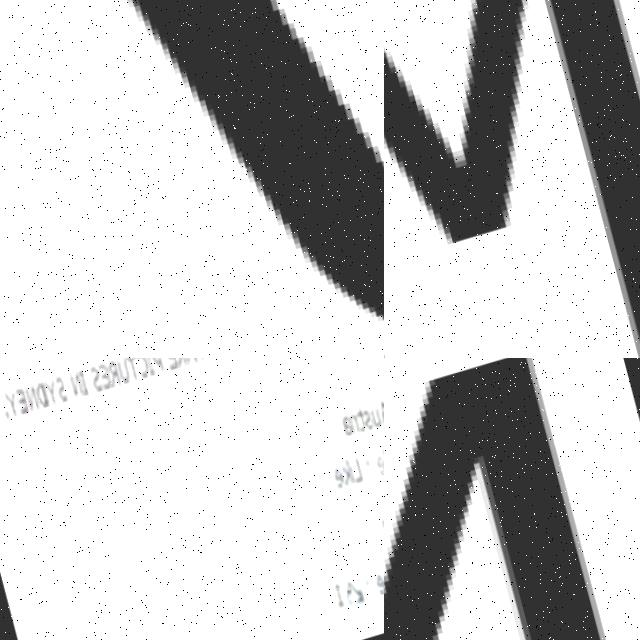1: (332, 584, 347, 611)
A: (339, 416, 353, 440), (376, 399, 384, 428), (180, 358, 197, 366)
C: (132, 358, 150, 378)
D: (33, 380, 49, 408)
E: (14, 385, 30, 415), (96, 360, 112, 389), (331, 468, 345, 491), (373, 574, 384, 599), (373, 456, 384, 480), (161, 358, 177, 371)
I: (77, 367, 88, 394), (345, 411, 356, 437), (346, 459, 357, 485), (142, 358, 153, 375)
J: (38, 0, 384, 358)
K: (338, 458, 354, 487), (169, 358, 186, 367), (380, 565, 384, 594)
L: (351, 458, 363, 484), (379, 448, 384, 476)
M: (384, 0, 640, 358)
N: (384, 358, 640, 640), (68, 368, 84, 397), (24, 383, 39, 411)
P: (148, 358, 165, 375)
R: (105, 360, 122, 389), (348, 413, 359, 435)
S: (86, 364, 103, 393), (54, 374, 70, 404), (362, 409, 373, 432)
T: (123, 358, 140, 380), (354, 408, 367, 435)
U: (115, 358, 131, 384), (367, 407, 382, 429)
Y: (42, 377, 58, 405), (3, 387, 19, 415)
